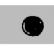correct: (17, 10, 49, 39)
